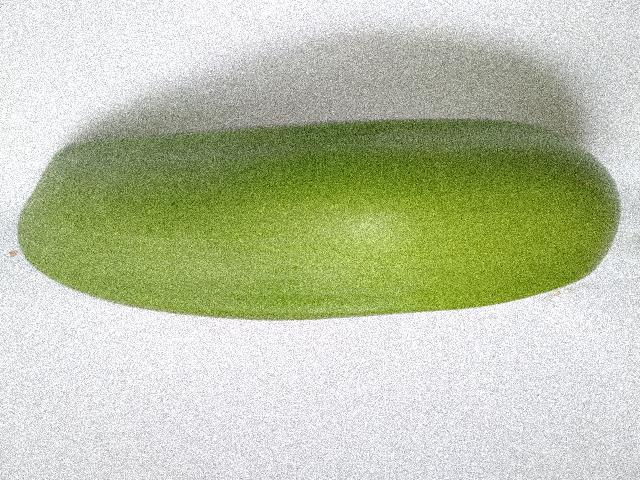freshunripe: (8, 104, 639, 345)
